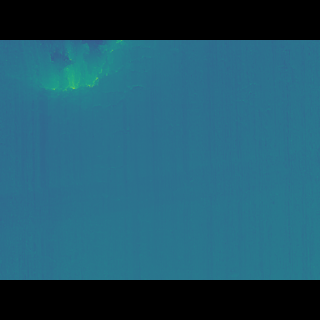Loch: (14, 69, 151, 152)
